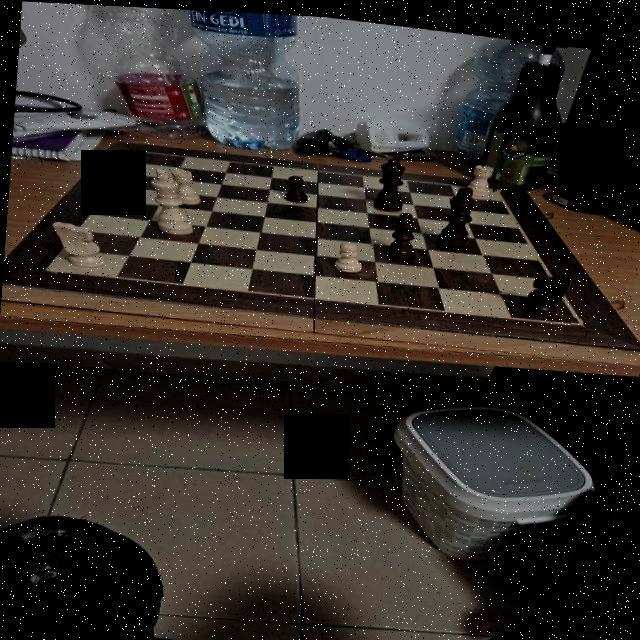chess-table-corners: (33, 262, 59, 276), (570, 310, 594, 322), (134, 146, 146, 153), (492, 180, 500, 187)
